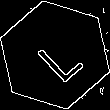L_NW: (26, 26, 84, 84)
